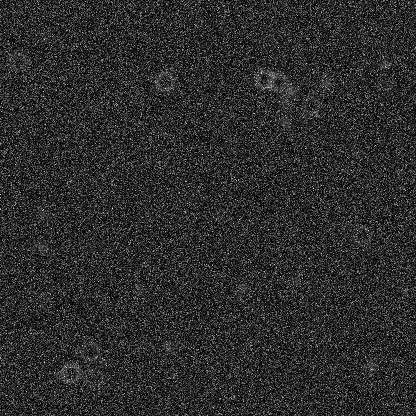Ring: (299, 93, 323, 117), (152, 69, 176, 93), (58, 360, 82, 384), (265, 69, 289, 93), (358, 21, 382, 45), (350, 223, 374, 247), (81, 365, 105, 389), (252, 67, 276, 91), (5, 49, 29, 73), (77, 339, 101, 363)
Spot: (276, 92, 292, 108), (34, 205, 50, 221), (278, 112, 294, 128), (131, 282, 147, 298), (317, 74, 333, 90), (281, 219, 297, 235), (376, 56, 392, 72), (282, 83, 298, 99), (34, 238, 50, 254), (348, 145, 364, 161), (235, 28, 251, 44), (35, 288, 51, 304), (288, 41, 304, 57), (363, 356, 379, 372), (286, 273, 302, 289), (234, 279, 250, 295), (378, 79, 394, 95), (37, 29, 53, 45), (160, 337, 176, 353), (339, 216, 355, 232)
